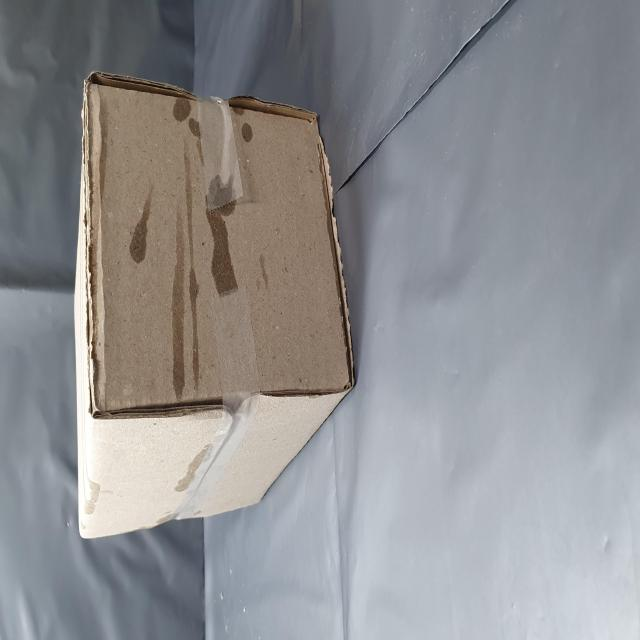wet: (129, 226, 313, 342), (188, 367, 269, 438)
